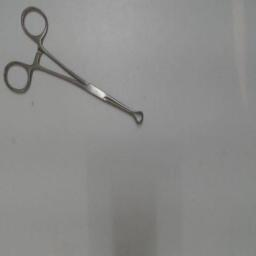Babcock Tissue Forceps: (2, 4, 146, 126)
